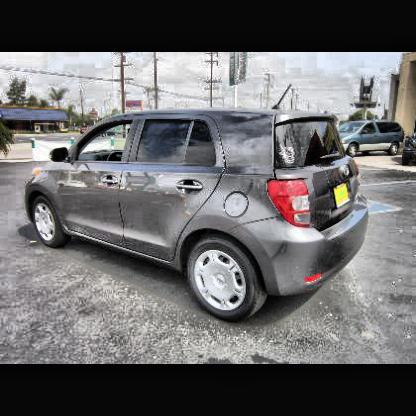Scion xD Hatchback 2012: (25, 110, 369, 325)
